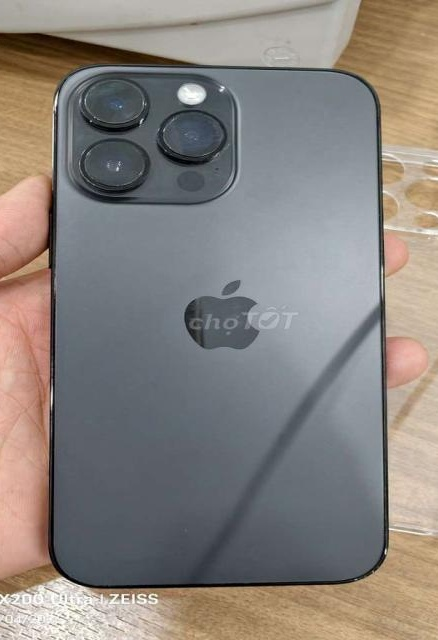scratch: (73, 134, 159, 191), (74, 74, 147, 128), (207, 114, 242, 168)
